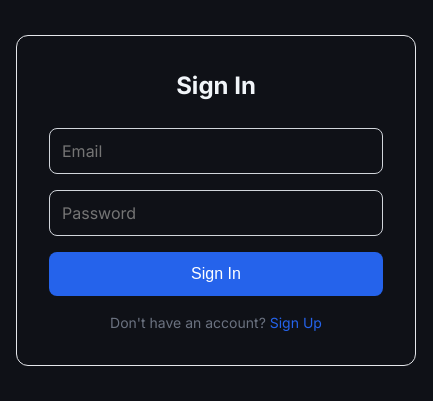
it: AuthPage smoke tests › shows error on failed login
Type "test@test.com" into the field with placeholder "Email" at (216, 150), box [49,128,383,174]
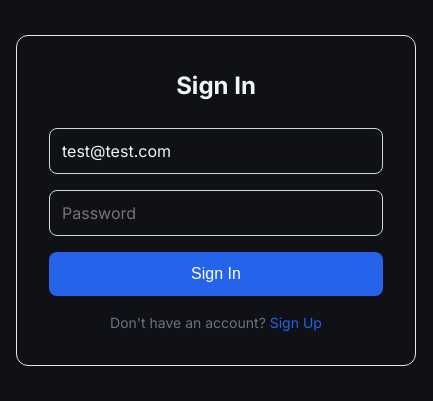
Type "wrongpass" into the password field with placeholder "Password" at (216, 212), box [49,190,383,236]
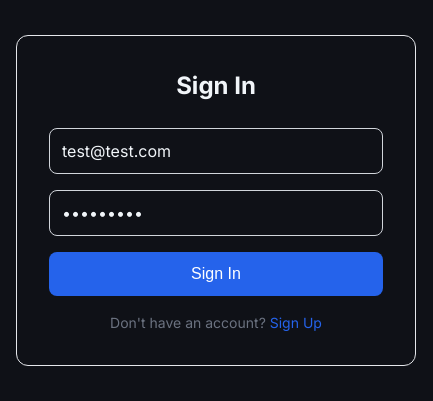
Click the button "Sign In" at (216, 274), box [49,252,383,296]
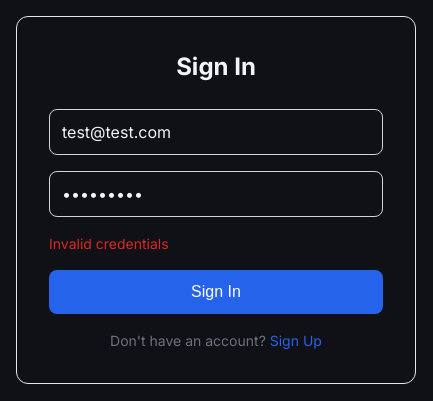
expect the text "Invalid credentials" is shown: met, box [49,235,169,252]
